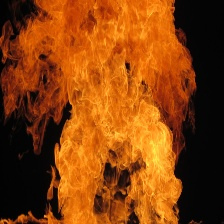fire: (1, 1, 197, 223)
